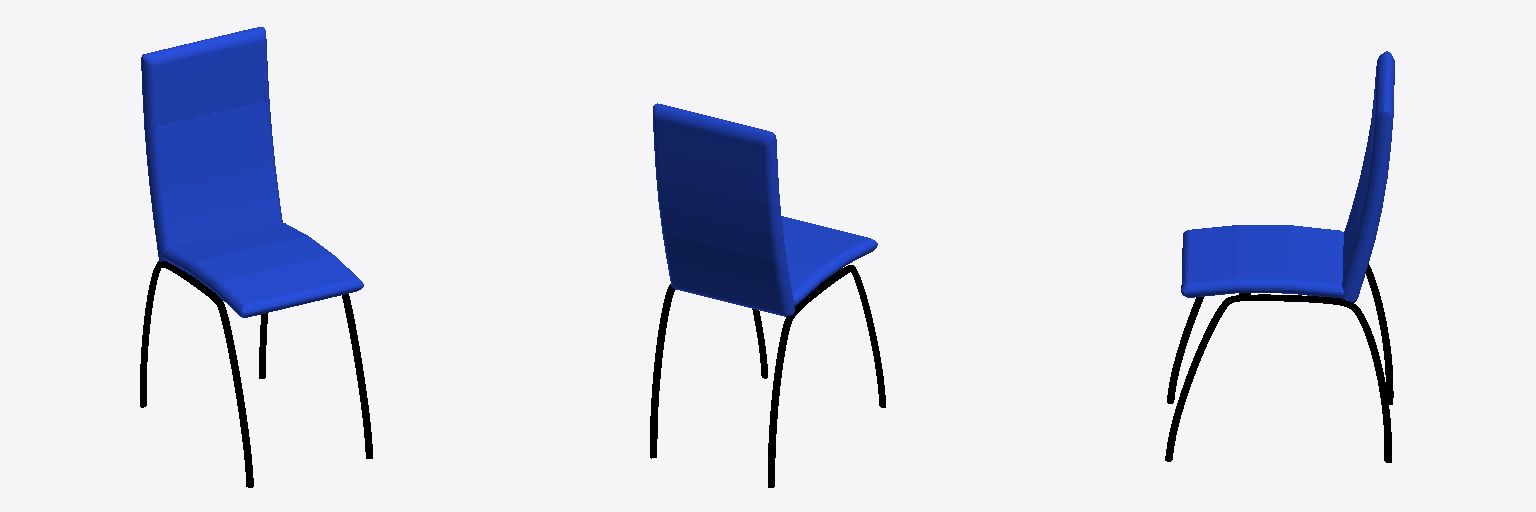
3 renders of one model, left to right at view 1: azimuth 30°, elevation 25°; view 2: azimuth 150°, elevation 25°; view 3: azimuth 270°, elevation 25°, orthographic.
Parts seen in each view (by area): view 1: Box002, Box001, Line001; view 2: Box002, Line001, Box001; view 3: Box001, Box002, Line001.
Boxes of the visible parts, <box> form: Box002: <box>141,27,282,261</box>; Box001: <box>163,223,363,317</box>; Line001: <box>140,261,372,487</box>; Box002: <box>653,103,794,316</box>; Line001: <box>650,265,885,487</box>; Box001: <box>781,216,877,305</box>; Box001: <box>1181,225,1344,297</box>; Box002: <box>1341,51,1394,302</box>; Line001: <box>1165,264,1393,462</box>.
Bounding box in the file's own units: 2.85 × 7.56 × 4.46.
2 materials, 2 textured.